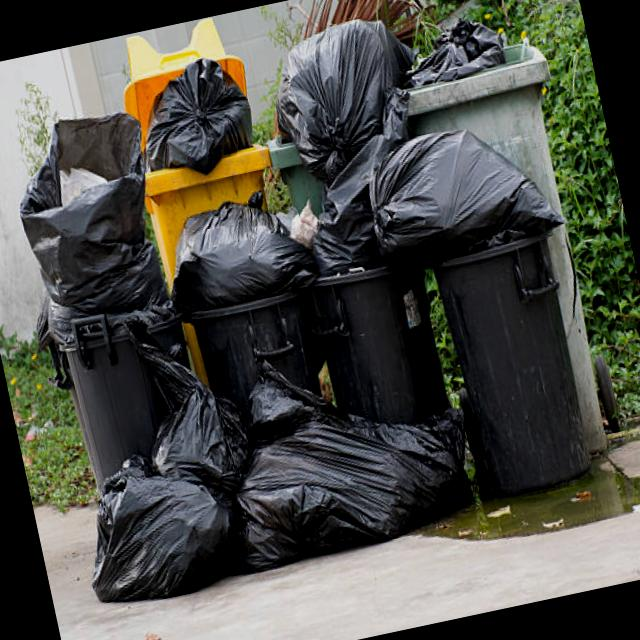garbage: (0, 0, 629, 621)
